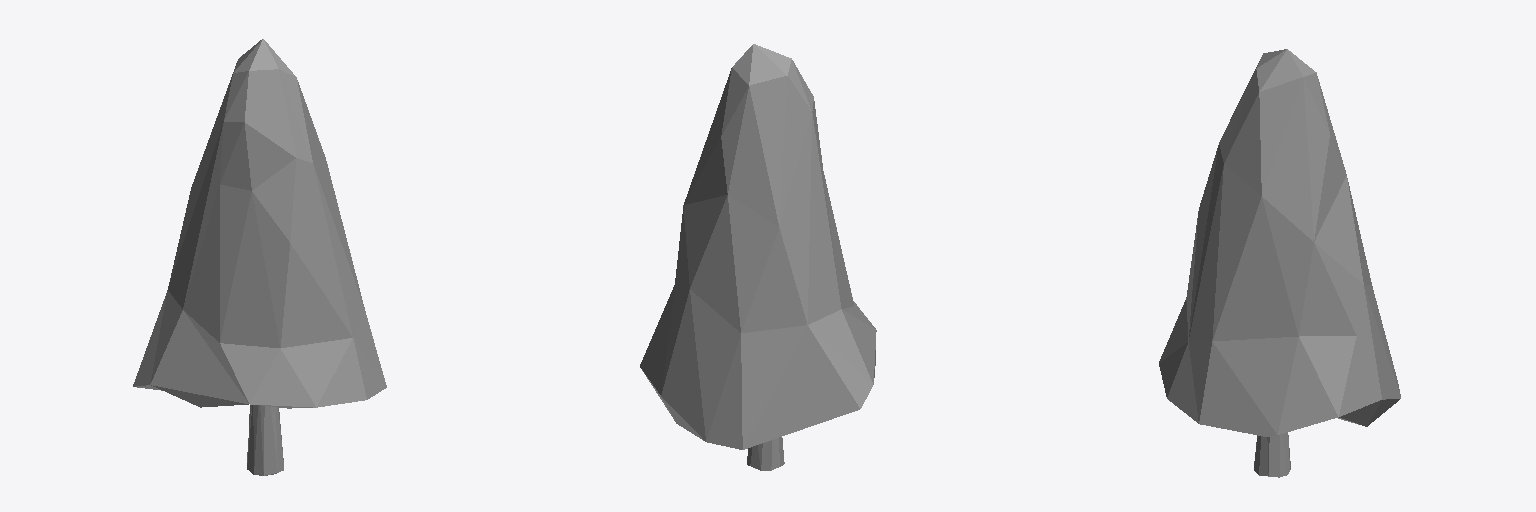
Rendered from tree-conical.obj.
3 renders of one model, left to right at view 1: azimuth 30°, elevation 25°; view 2: azimuth 150°, elevation 25°; view 3: azimuth 270°, elevation 25°, orthographic.
Parts seen in each view (by area): view 1: leaves_Sphere, trunk_Cube; view 2: leaves_Sphere, trunk_Cube; view 3: leaves_Sphere, trunk_Cube.
Part boxes in pixels (x1,y1,x2,y2): leaves_Sphere: (133,39,386,408); trunk_Cube: (247,405,283,475); leaves_Sphere: (640,44,876,449); trunk_Cube: (747,437,784,470); leaves_Sphere: (1159,49,1400,436); trunk_Cube: (1254,432,1290,477).
Size of the model in its own units: 4.83 by 9.08 by 4.7.